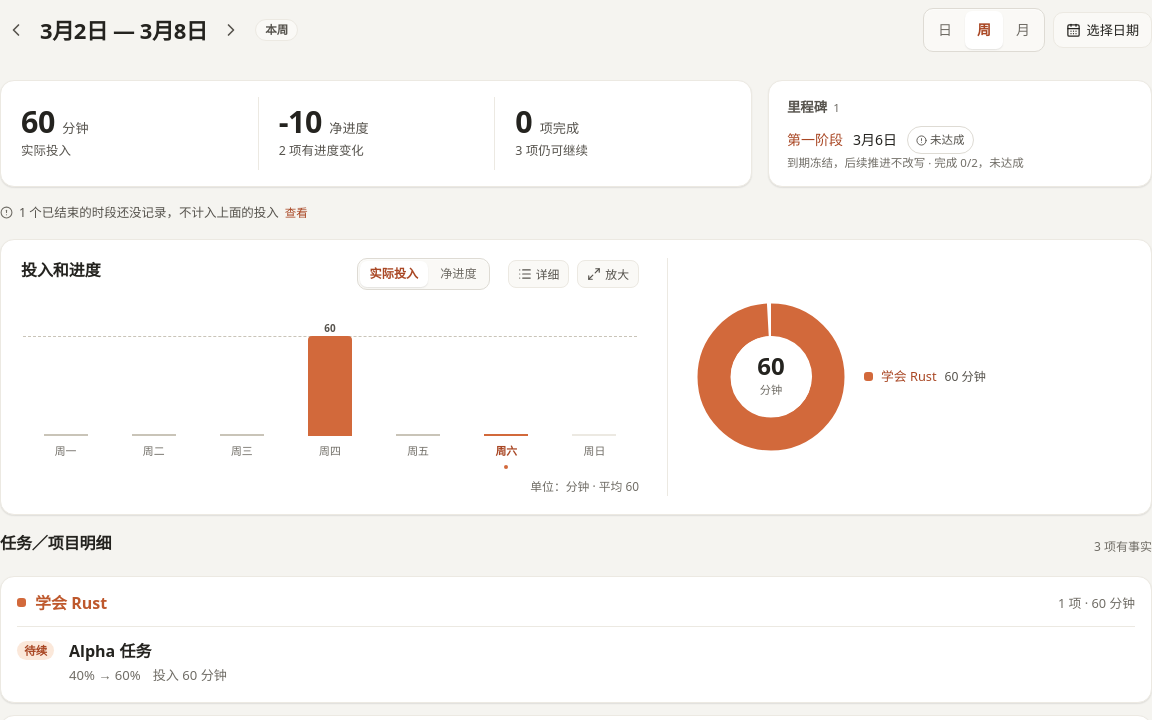
Test: review page › switches one chart between minutes and percentage points and lists both in the 详细 table
The image size is (1152, 720).
Expected: the text with class "review-chart-unit" shows "单位：分钟", 530,478 -> 639,494
Expected: the element with class "review-charts-tools" does not show "单位"
Click the button "净进度" at [458, 274], box 430,261 -> 487,287
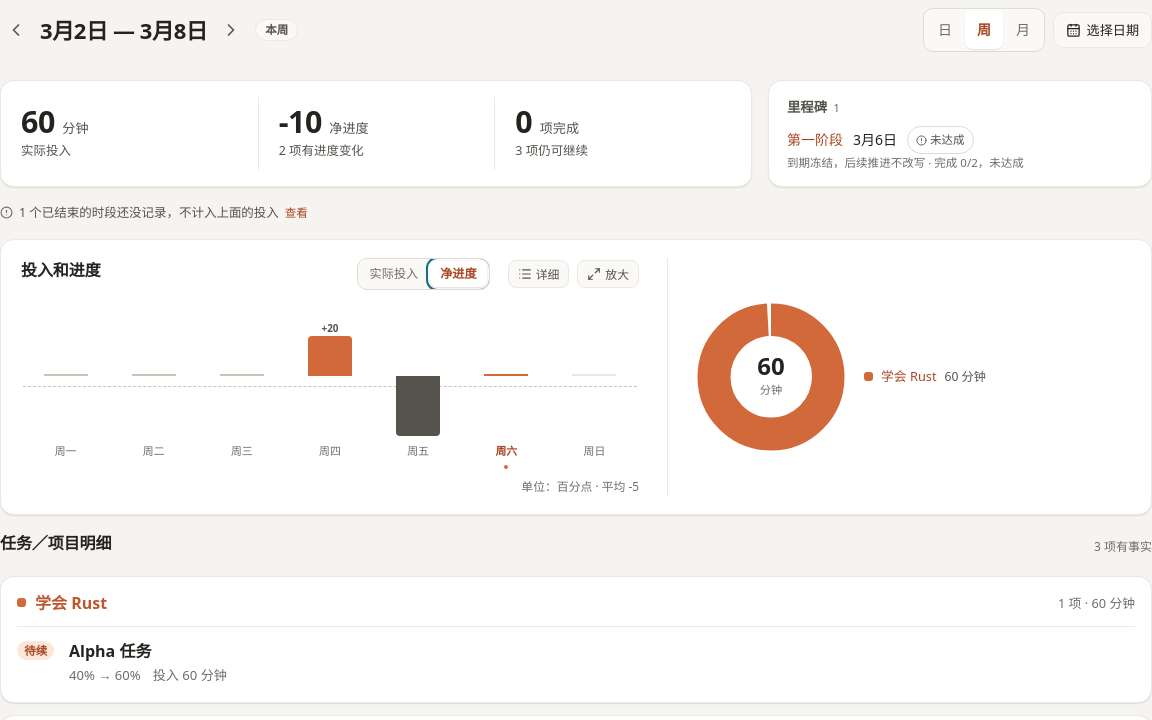
Expected: the element with class "review-chart-figure" does not show "分钟"
Expected: the text with class "review-chart-unit" shows "单位：百分点", 521,478 -> 639,494
Note: 「详细」打开气泡：周视图的表格是四列，投入与百分点并排。
Click the button "详细" at [539, 274], box 508,260 -> 569,288
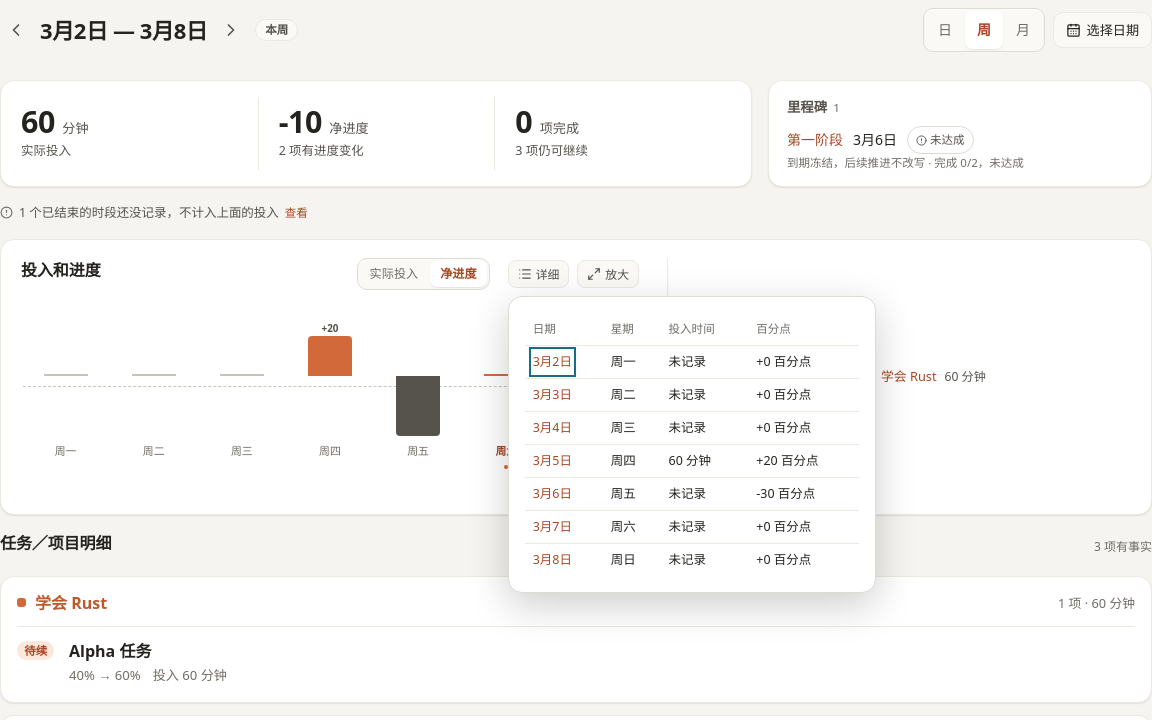
Expected: the column heading "3月5日" is shown, 525,444 -> 603,478
Note: 点页面别处收起。
Click the heading "3月2日 — 3月8日" at [124, 30], box 40,16 -> 207,44
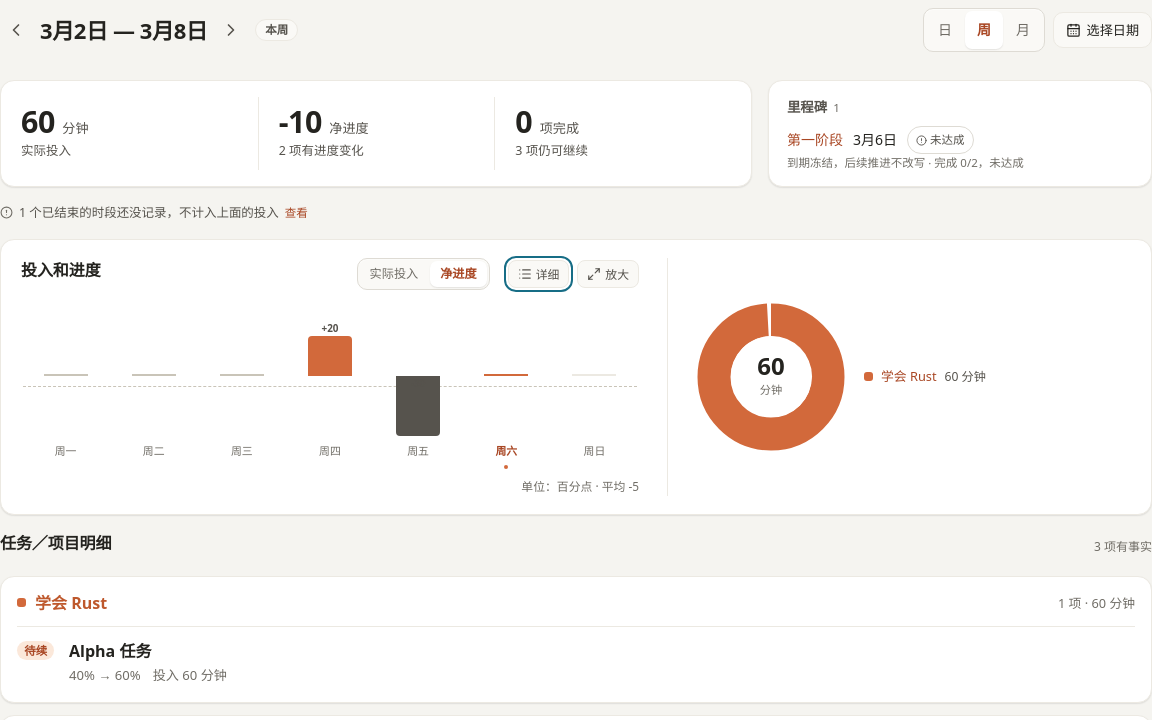
Expected: the dialog with class "review-chart-popover" is gone
